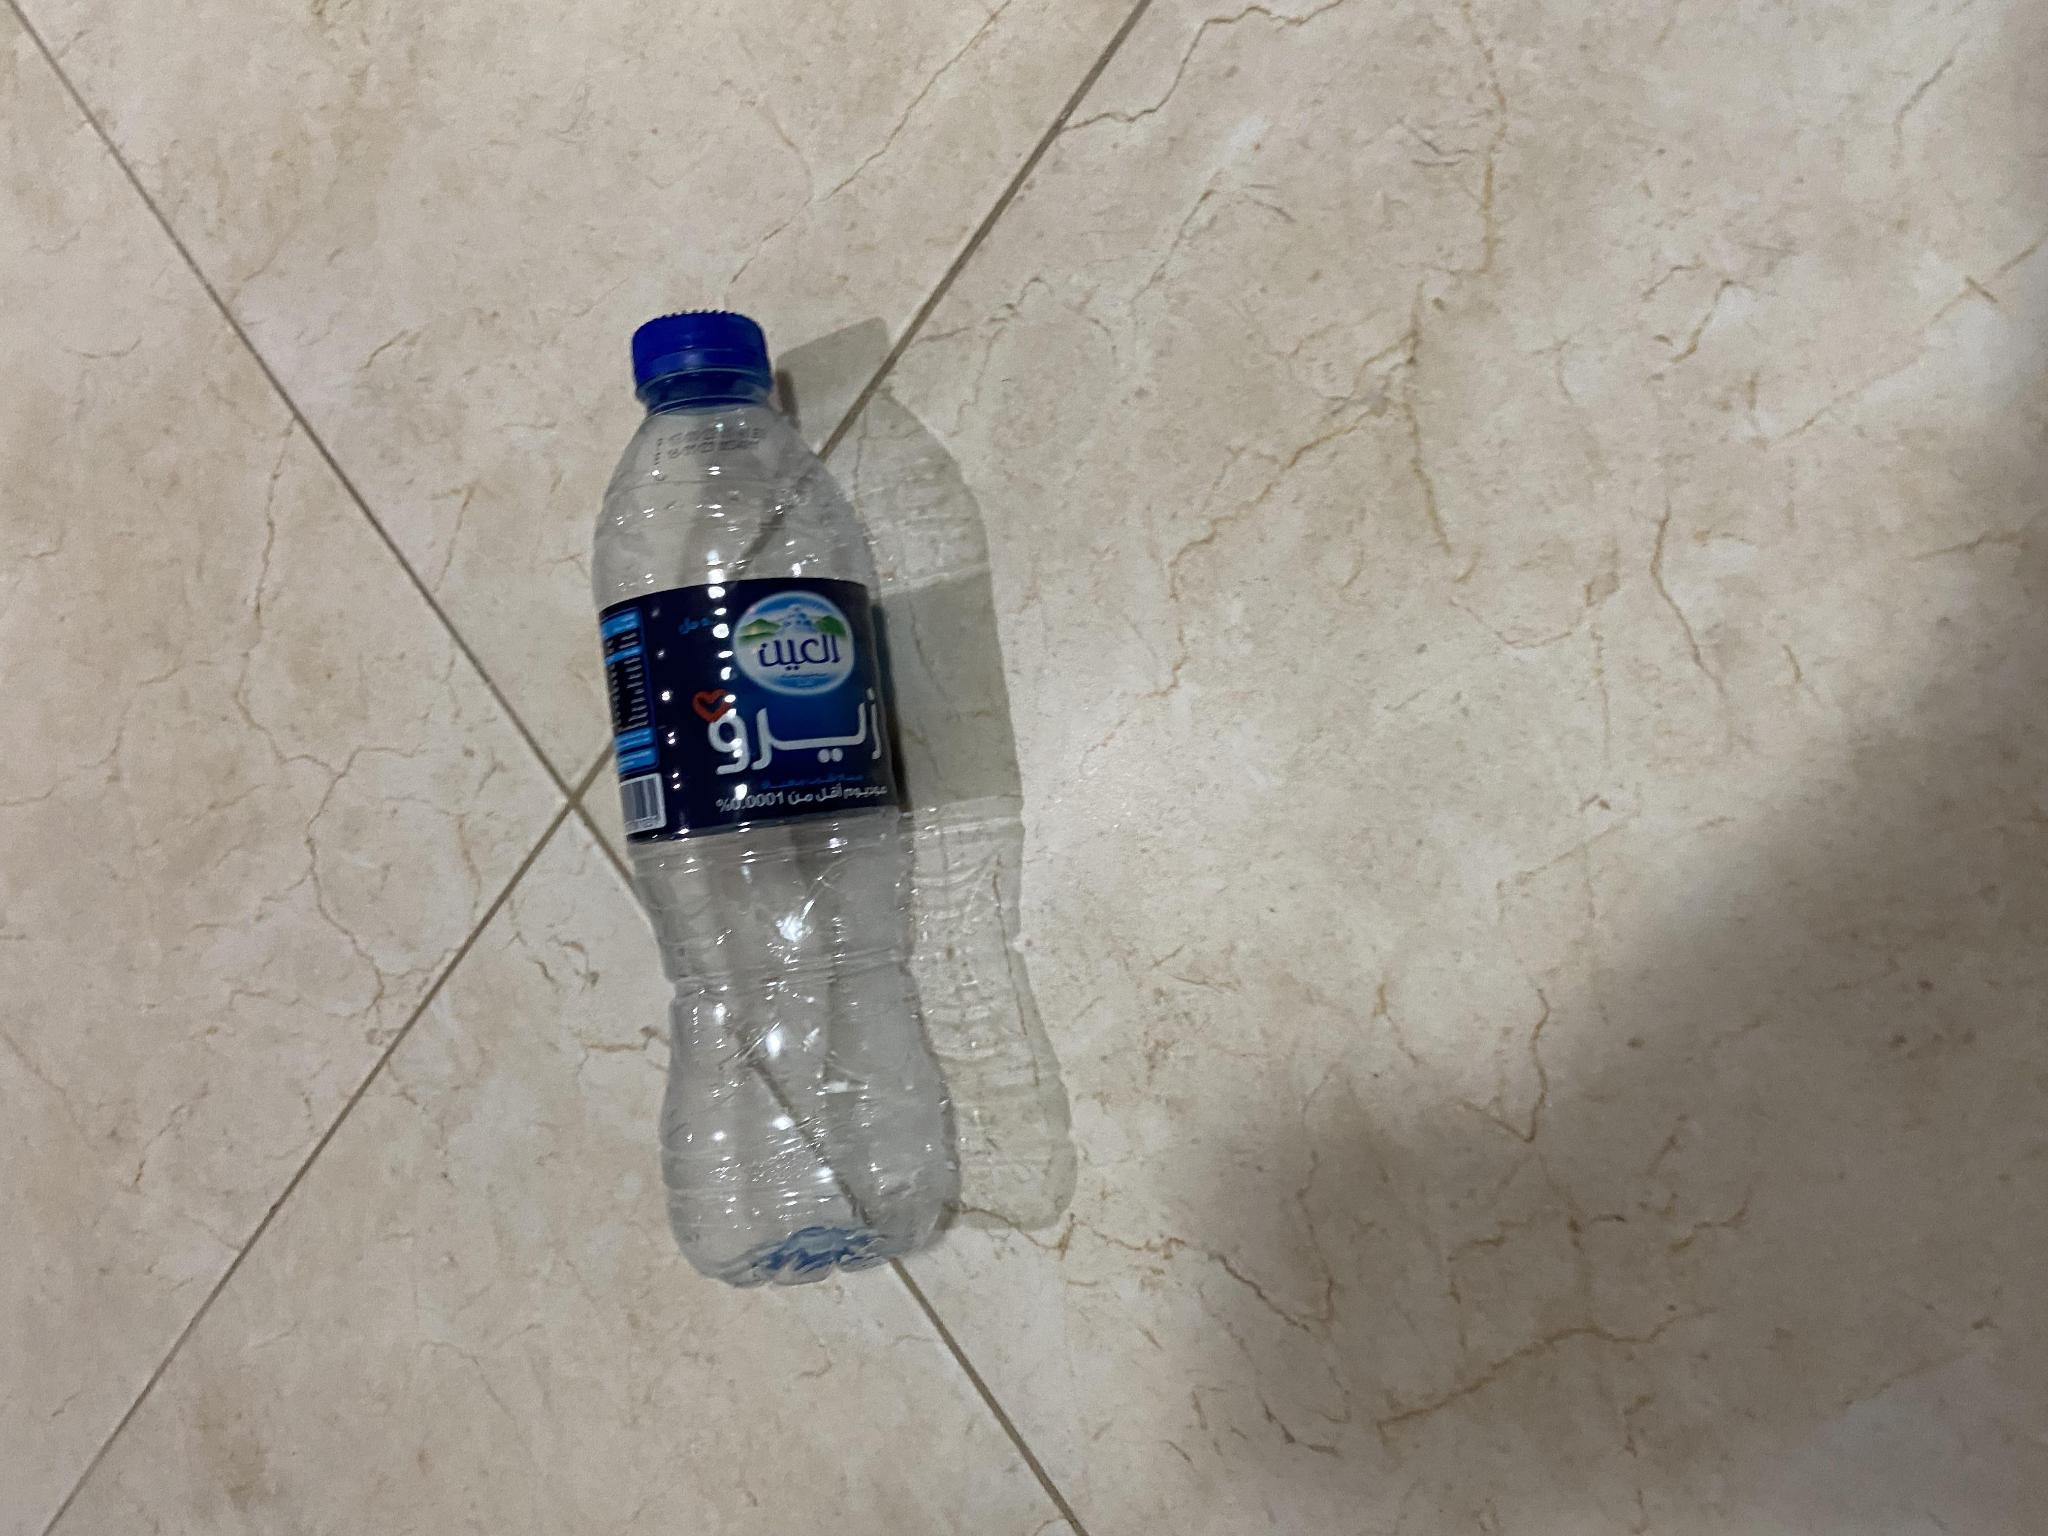bottle: (576, 273, 1005, 1273)
